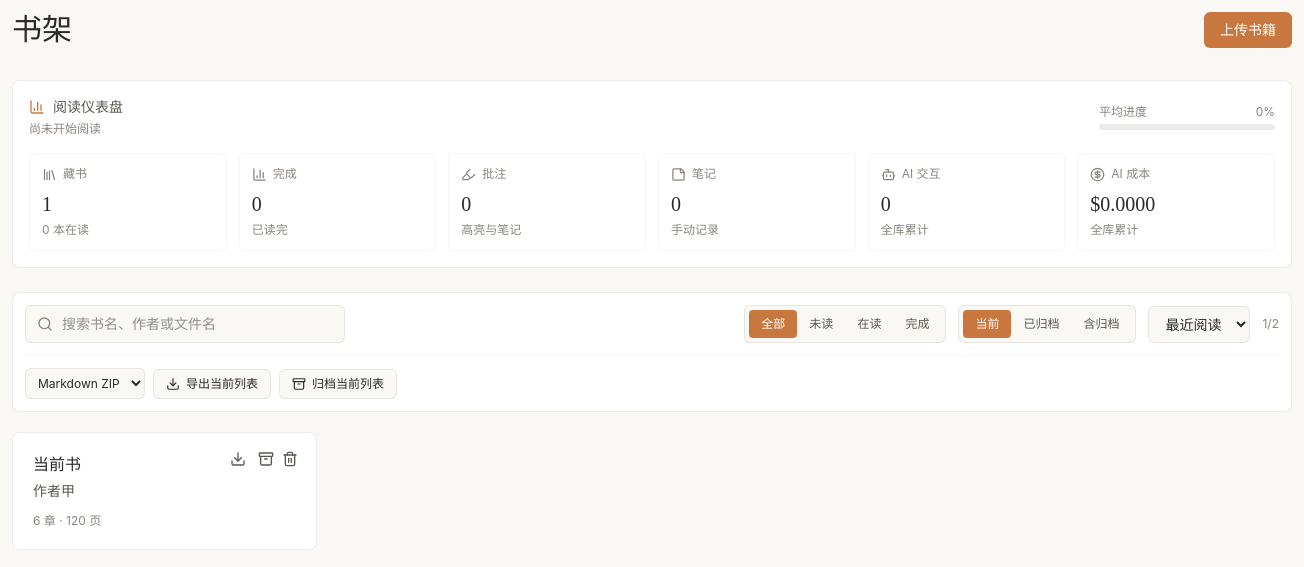
it: BookList › announces delete failures and keeps the current filtered card visible
Step 1. Type "当前" into the field labelled "搜索书名、作者或文件名" → (185, 324), box [25,305,345,343]
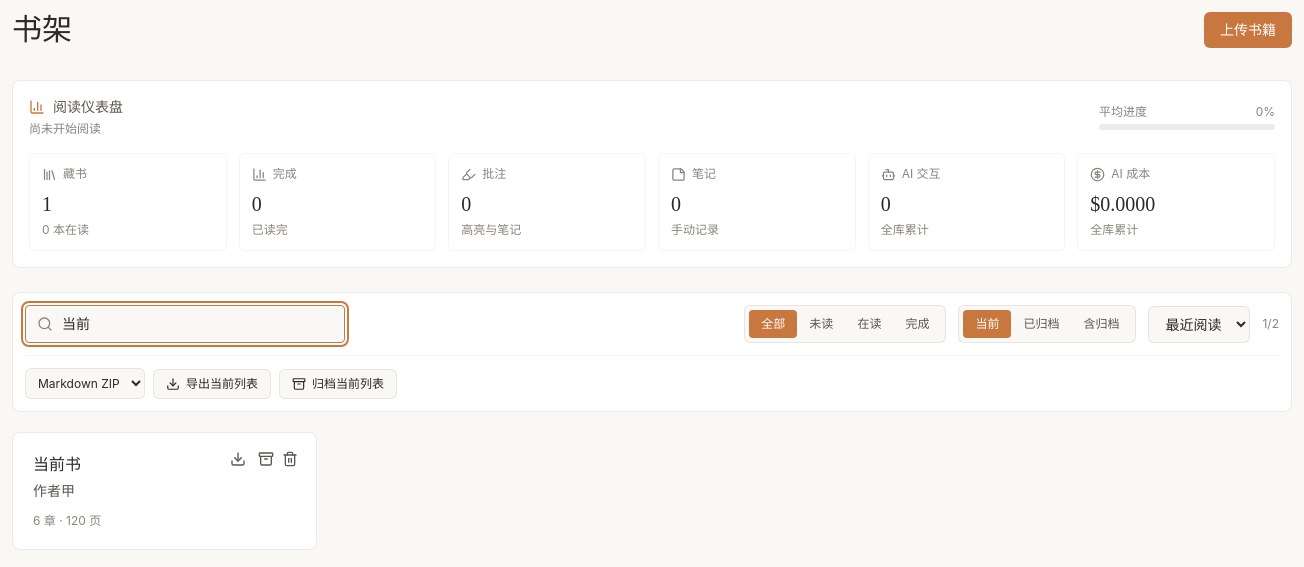
Step 2. Click the button named "删除书籍" → (290, 459), box [276,445,304,473]
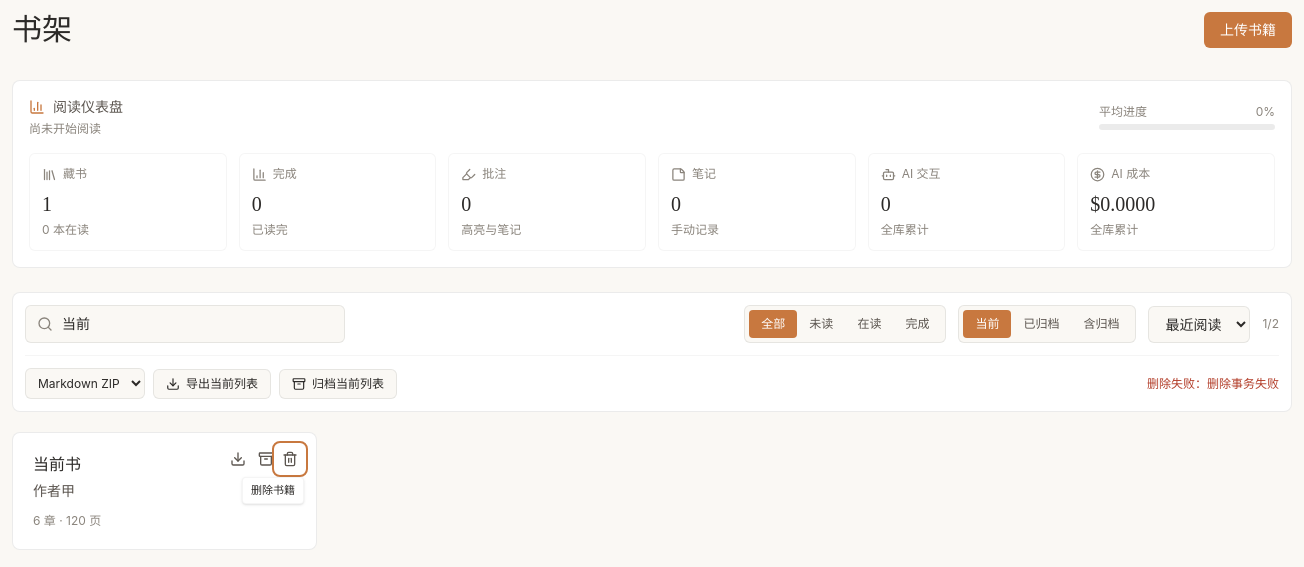
Expected: the message "1/2" is shown, [1262,316,1279,332]
Result: the message "删除失败：删除事务失败" is shown at [1147,376,1279,392]
